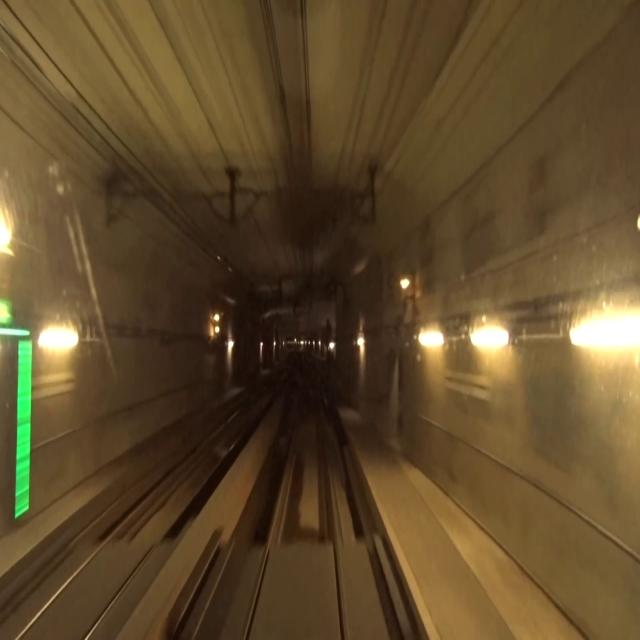rail-track: (20, 365, 289, 639), (247, 392, 342, 639)
